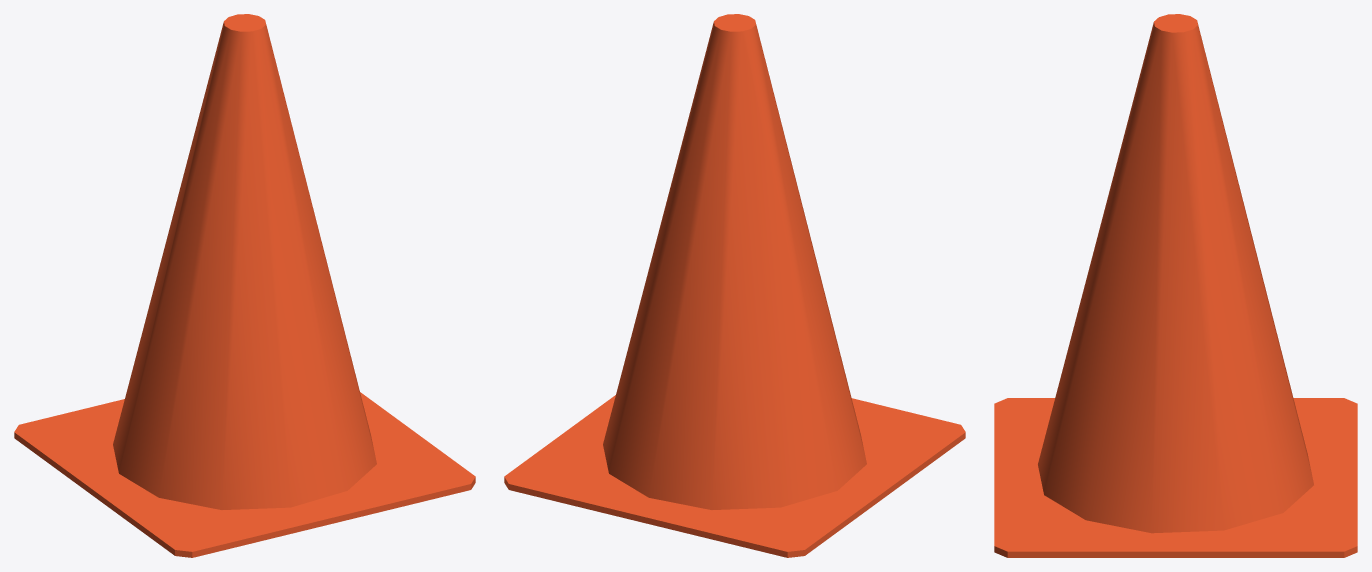
The model's file is Skate_Safety_Cone_01.FBX.
3 renders of one model, left to right at view 1: azimuth 30°, elevation 25°; view 2: azimuth 150°, elevation 25°; view 3: azimuth 270°, elevation 25°, orthographic. The views are drawn at different scales.
Visible parts, largest first — view 1: Skate_Safety_Cone_01; view 2: Skate_Safety_Cone_01; view 3: Skate_Safety_Cone_01.
Boxes of the visible parts, x1,y1,x2,y2 form: Skate_Safety_Cone_01: [14, 14, 475, 557]; Skate_Safety_Cone_01: [504, 14, 965, 557]; Skate_Safety_Cone_01: [994, 14, 1357, 557].
Size of the model in its own units: 0.3036 by 0.4221 by 0.3036.
